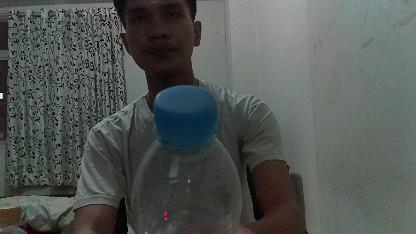Plastic Bottle: (132, 85, 242, 234)
